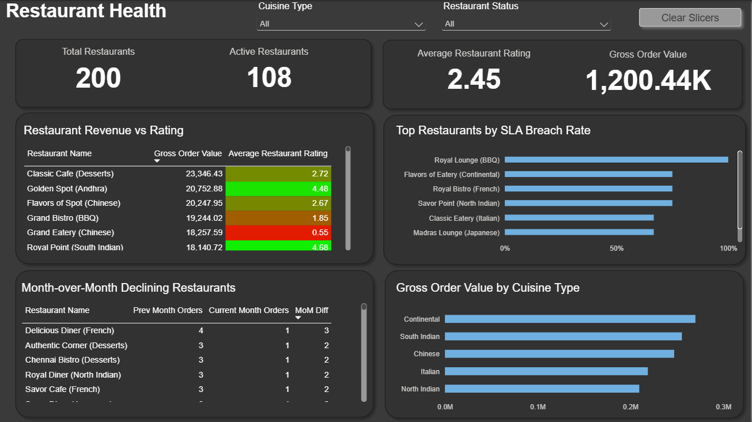

The dashboard page shown, as its layout file describes it:
{"tool":"powerbi","page":{"name":"Restaurant Health","canvas":[1280,720],"ordinal":3},"visuals":[{"type":"shape","box":[17.2,56.4,624.5,135],"z":0,"group":"g1"},{"type":"group","id":"g1","title":"background","box":[17.2,56.4,1262.6,663.8],"z":500},{"type":"textbox","box":[9.8,0,343.6,38],"z":1000},{"type":"shape","box":[643,57.5,630.7,136.2],"z":1000,"group":"g1"},{"type":"cardVisual","fields":{"Data":["_Measures.Total Restaurants"]},"box":[57.9,66.4,220.1,107.6],"z":2000},{"type":"shape","box":[17.2,182,628.2,276.1],"z":2000,"group":"g1"},{"type":"cardVisual","fields":{"Data":["_Measures.Average Restaurant Rating"]},"box":[678,53.1,258,138.2],"z":3000},{"type":"shape","box":[646.7,450.3,629.5,269.9],"z":3000,"group":"g1"},{"type":"cardVisual","fields":{"Data":["_Measures.Gross Order Value"]},"box":[977.9,69.9,252.8,109.2],"z":4000},{"type":"shape","box":[17.7,449.7,628.4,268.6],"z":4000,"group":"g1"},{"type":"cardVisual","fields":{"Data":["_Measures.Active Restaurants"]},"box":[353.5,63.9,210.3,110.1],"z":5000},{"type":"shape","box":[644.2,185.2,635.6,273.6],"z":5000,"group":"g1"},{"type":"clusteredBarChart","title":"Gross Order Value by Cuisine Type","fields":{"Category":["restaurants_dim.cuisine_type"],"Y":["_Measures.Gross Order Value"]},"box":[658.7,462.1,603.2,255.8],"z":6000},{"type":"tableEx","title":"Month-over-Month Declining Restaurants","fields":{"Values":["declining_restaurants.name","declining_restaurants.prev_month_orders","declining_restaurants.current_month_orders","declining_restaurants.monthly_difference"]},"box":[20.9,462.6,619.6,236.8],"z":7000},{"type":"slicer","fields":{"Values":["restaurants_dim.cuisine_type"]},"box":[431.9,0,299.4,52.8],"z":8000},{"type":"slicer","fields":{"Values":["restaurants_dim.is_active"]},"box":[746.8,0,299.6,67.3],"z":9000},{"type":"actionButton","box":[1079.8,3.6,191.8,49.5],"z":10000},{"type":"tableEx","title":"Restaurant Revenue vs Rating","fields":{"Values":["restaurants_dim.name","_Measures.Gross Order Value","_Measures.Average Restaurant Rating"]},"box":[24.5,195.1,589,246.6],"z":13000},{"type":"clusteredBarChart","title":"Top Restaurants by SLA Breach Rate","fields":{"Category":["restaurants_dim.name"],"Y":["_Measures.SLA Breach Rate"]},"box":[658.7,194.9,621.6,253.9],"z":14000}]}

Visuals, with their boxes in screenshot pixels (x1, y1, x2, y2), scaled from the page's 1280x720 canvas onto the 752x422 screenshot:
shape: box=[10, 33, 377, 112]
"background" group: box=[10, 33, 751, 421]
textbox: box=[6, 0, 208, 22]
shape: box=[378, 34, 748, 114]
cardVisual - _Measures.Total Restaurants: box=[34, 39, 163, 102]
shape: box=[10, 107, 379, 268]
cardVisual - _Measures.Average Restaurant Rating: box=[398, 31, 550, 112]
shape: box=[380, 264, 750, 421]
cardVisual - _Measures.Gross Order Value: box=[575, 41, 723, 105]
shape: box=[10, 264, 380, 421]
cardVisual - _Measures.Active Restaurants: box=[208, 37, 331, 102]
shape: box=[378, 109, 751, 269]
"Gross Order Value by Cuisine Type" clusteredBarChart: box=[387, 271, 741, 421]
"Month-over-Month Declining Restaurants" tableEx: box=[12, 271, 376, 410]
slicer - restaurants_dim.cuisine_type: box=[254, 0, 430, 31]
slicer - restaurants_dim.is_active: box=[439, 0, 615, 39]
actionButton: box=[634, 2, 747, 31]
"Restaurant Revenue vs Rating" tableEx: box=[14, 114, 360, 259]
"Top Restaurants by SLA Breach Rate" clusteredBarChart: box=[387, 114, 751, 263]
